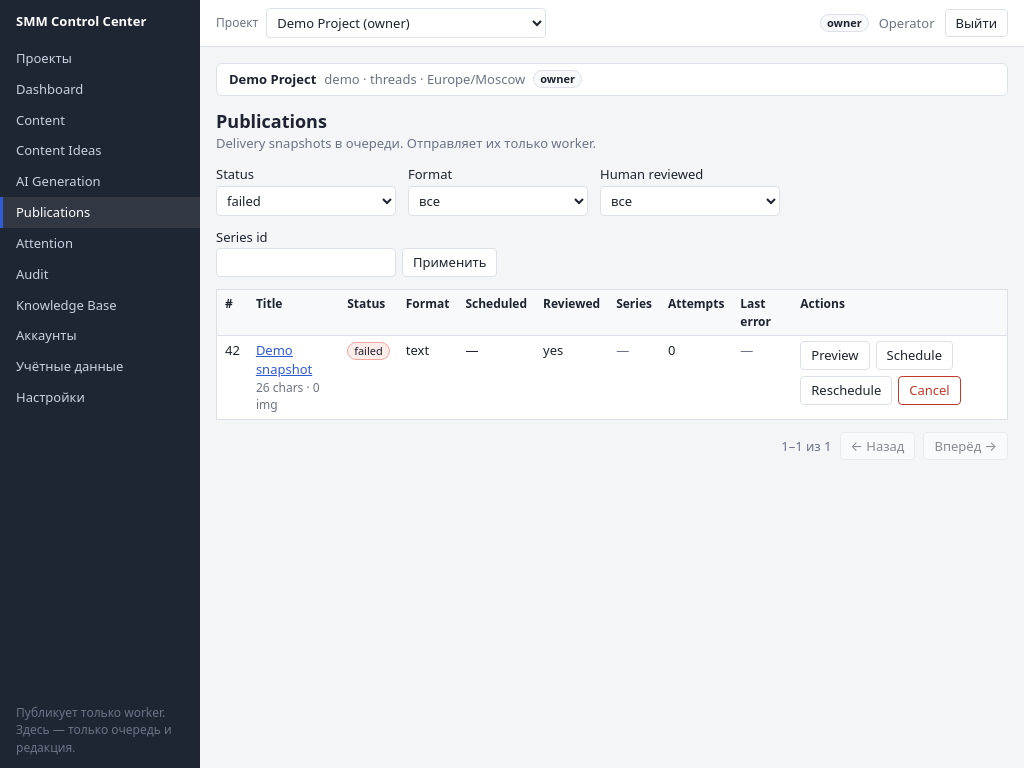
Test: J4 / AC-A1 / AC-A2: switching project from a filtered list › opens the same section of the other project, drops the filters and never shows the first project's rows
The width and height of the screenshot is (1024, 768).
Expected: the link "Demo snapshot" is shown, [256, 341, 312, 378]
Select "Beta Project (viewer)" in the dropdown named "Project switcher" at {"x": 406, "y": 23}, box [266, 8, 546, 38]
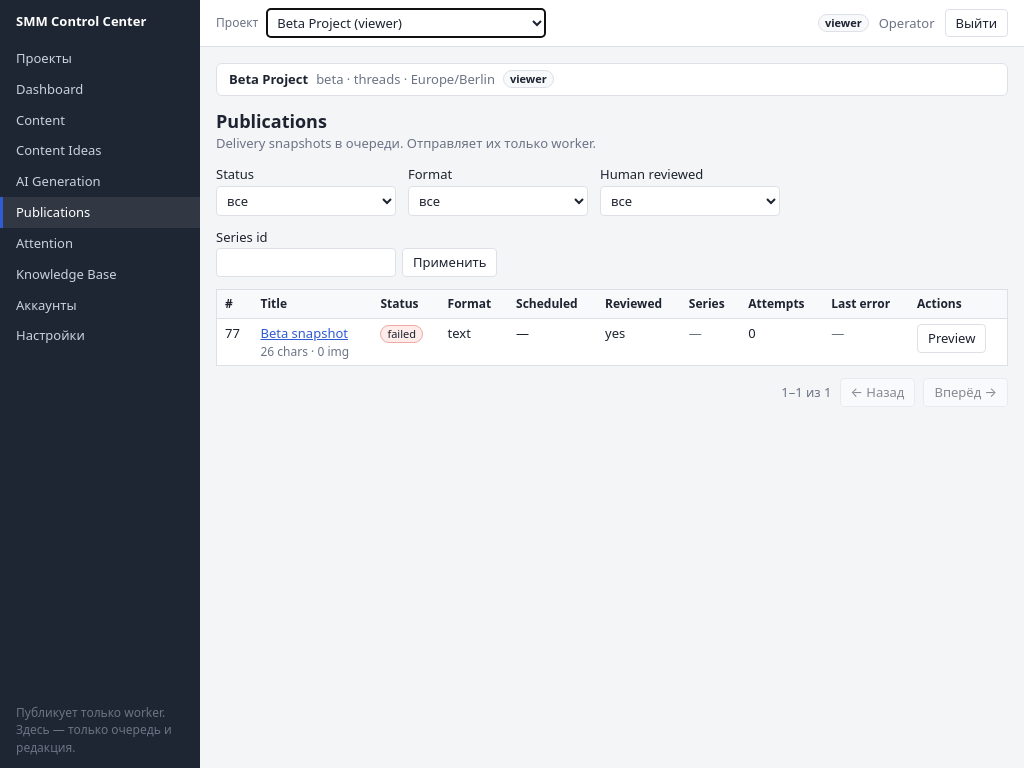
Expected: the element with test id "project-strip" shows "Beta Project", [229, 70, 308, 88]
Expected: the link "Beta snapshot" is shown, [260, 324, 348, 342]
Expected: the link "Demo snapshot" is gone
